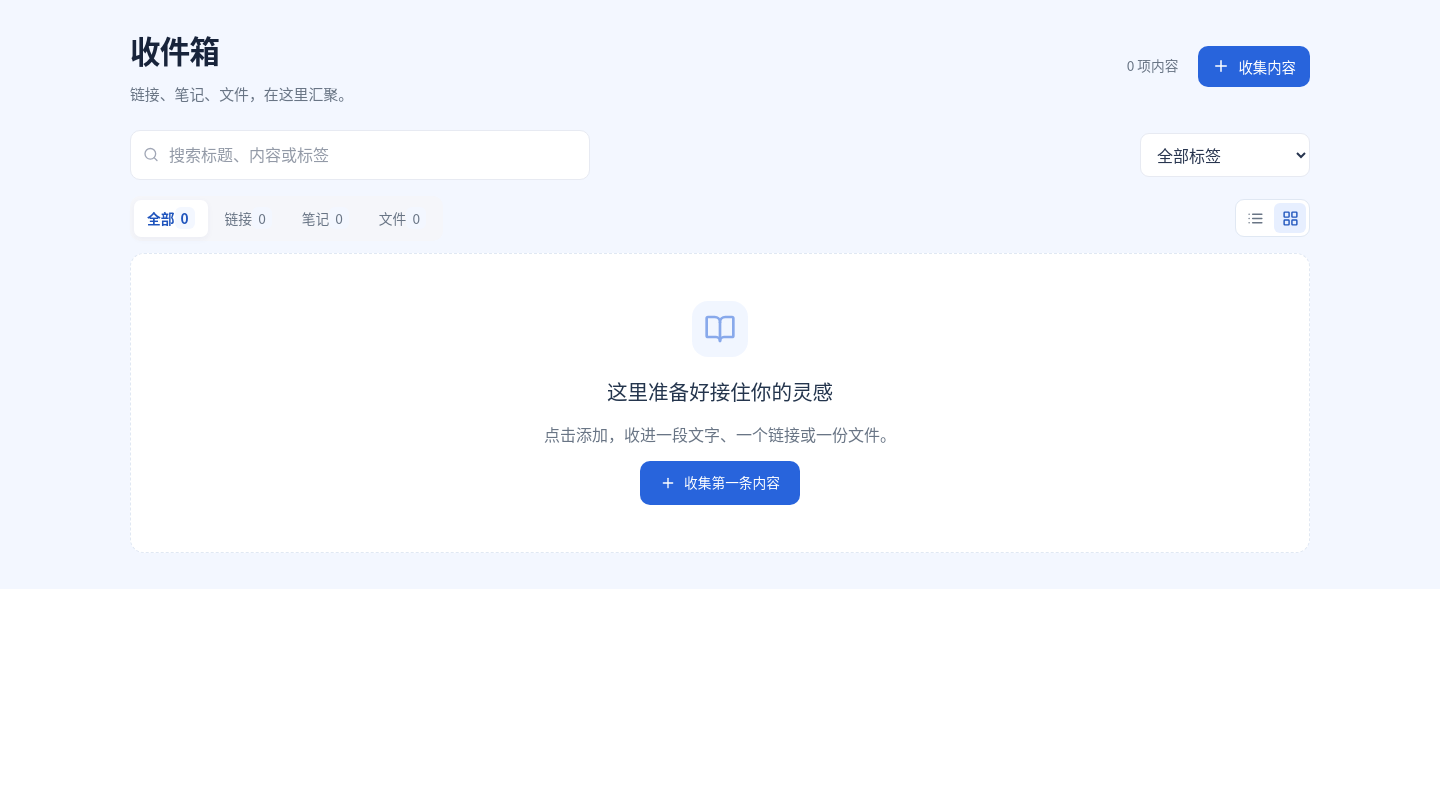
Test: unified capture saves text and the AI preference
The image size is (1440, 810).
Click the button with aria-label "添加到收件箱" at {"x": 1254, "y": 66}, box [1198, 46, 1310, 87]
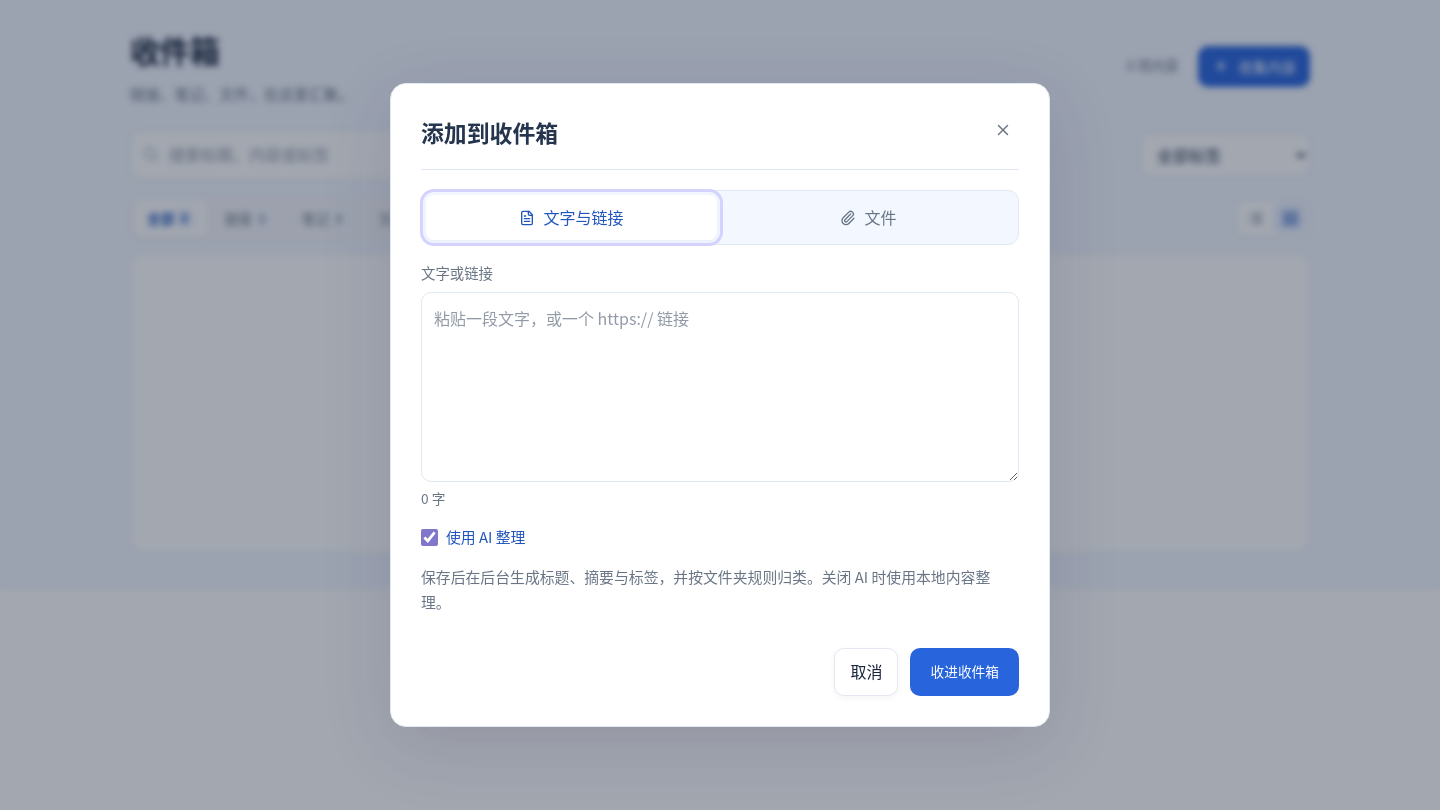
Type "关于信息汇聚的新想法" into the text box labelled "文字或链接" at {"x": 720, "y": 387}, box [421, 292, 1019, 482]
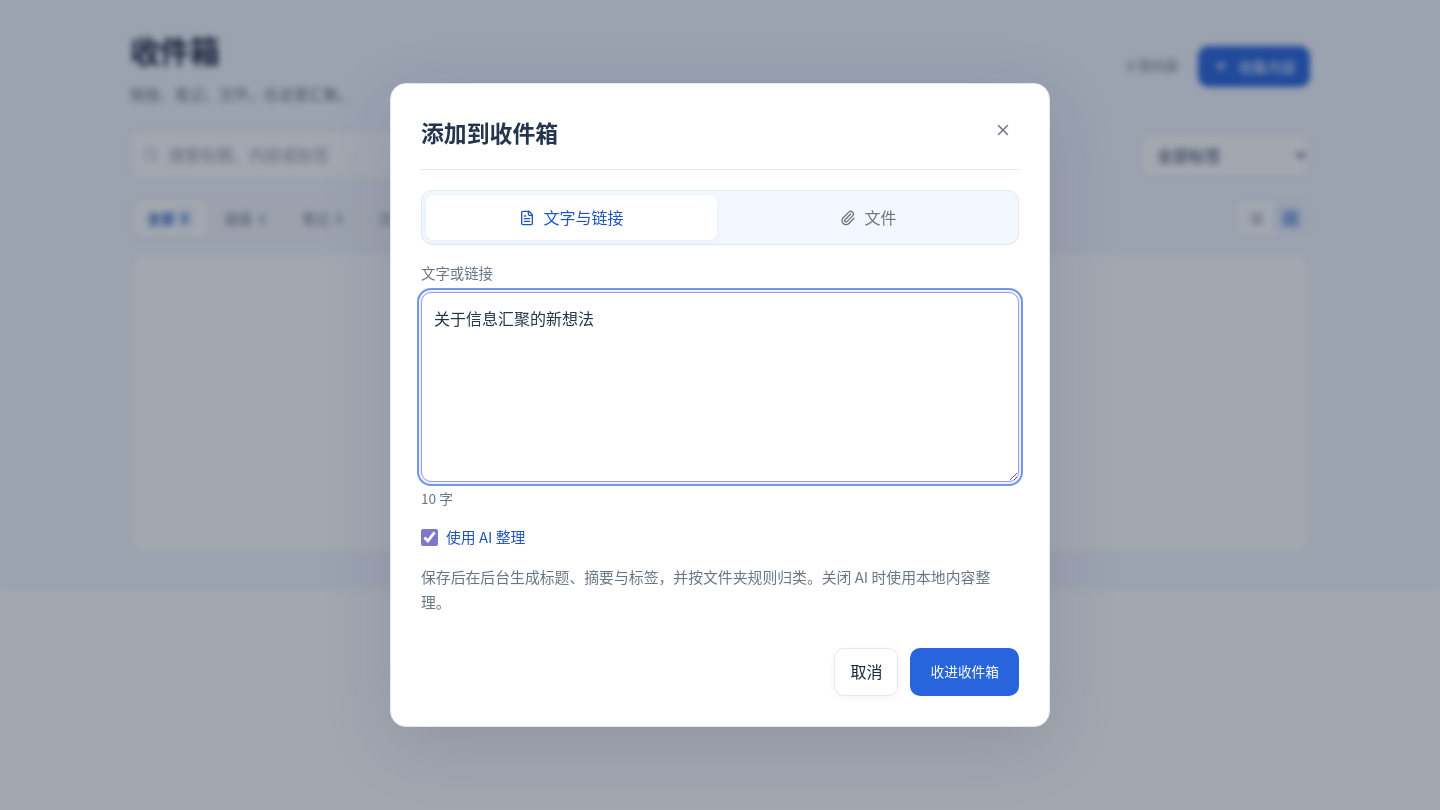
Click the checkbox labelled "使用 AI 整理" at {"x": 430, "y": 537}, box [421, 529, 438, 546]
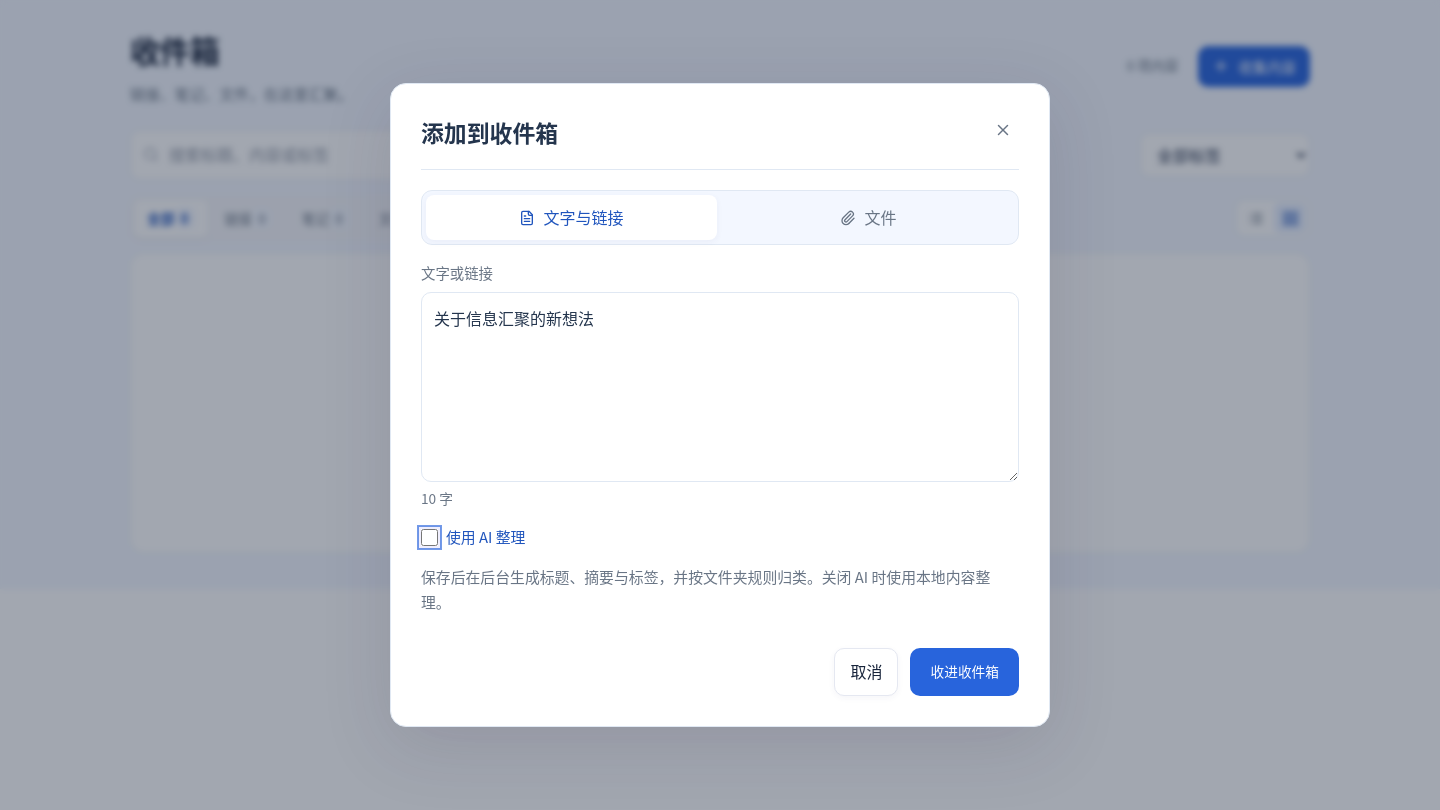
Click the button "收进收件箱" at {"x": 965, "y": 672}, box [910, 648, 1019, 696]
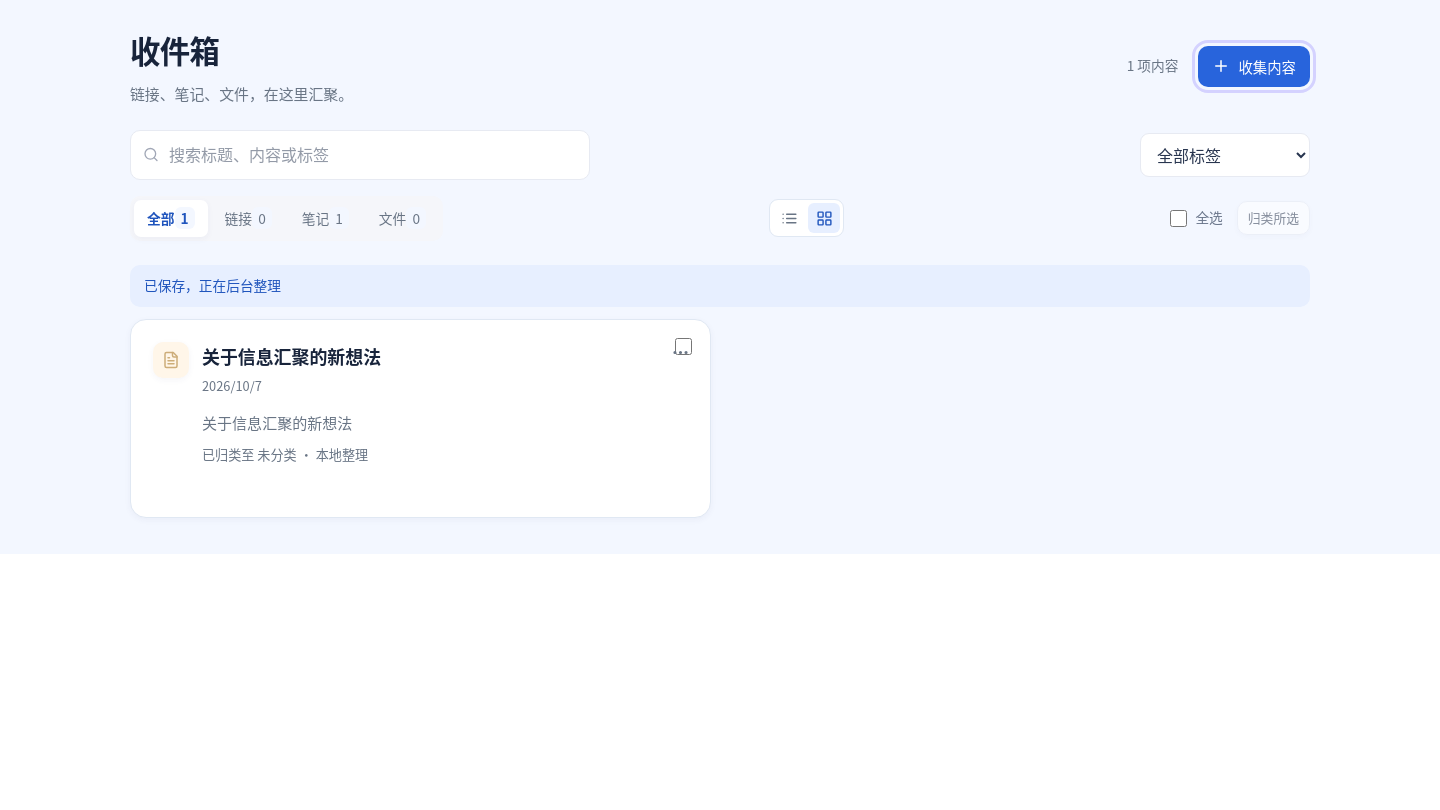
Result: the heading "关于信息汇聚的新想法" is shown at [202, 342, 381, 370]
Result: the dialog is gone
Result: the text "已归类至 未分类 · 本地整理" is shown at [202, 445, 368, 464]
